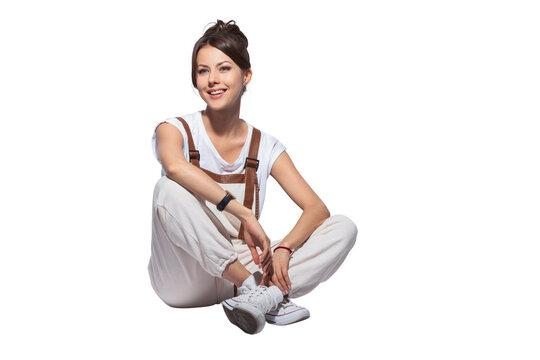short sleeve shirt: (149, 108, 288, 239)
trousers: (147, 174, 360, 309)
